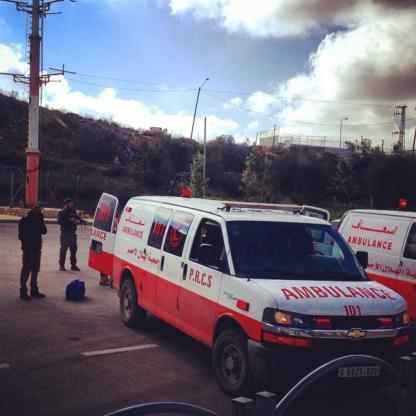Ambulance - v1 Ambulance last generate: (87, 188, 411, 395), (330, 200, 416, 322)
